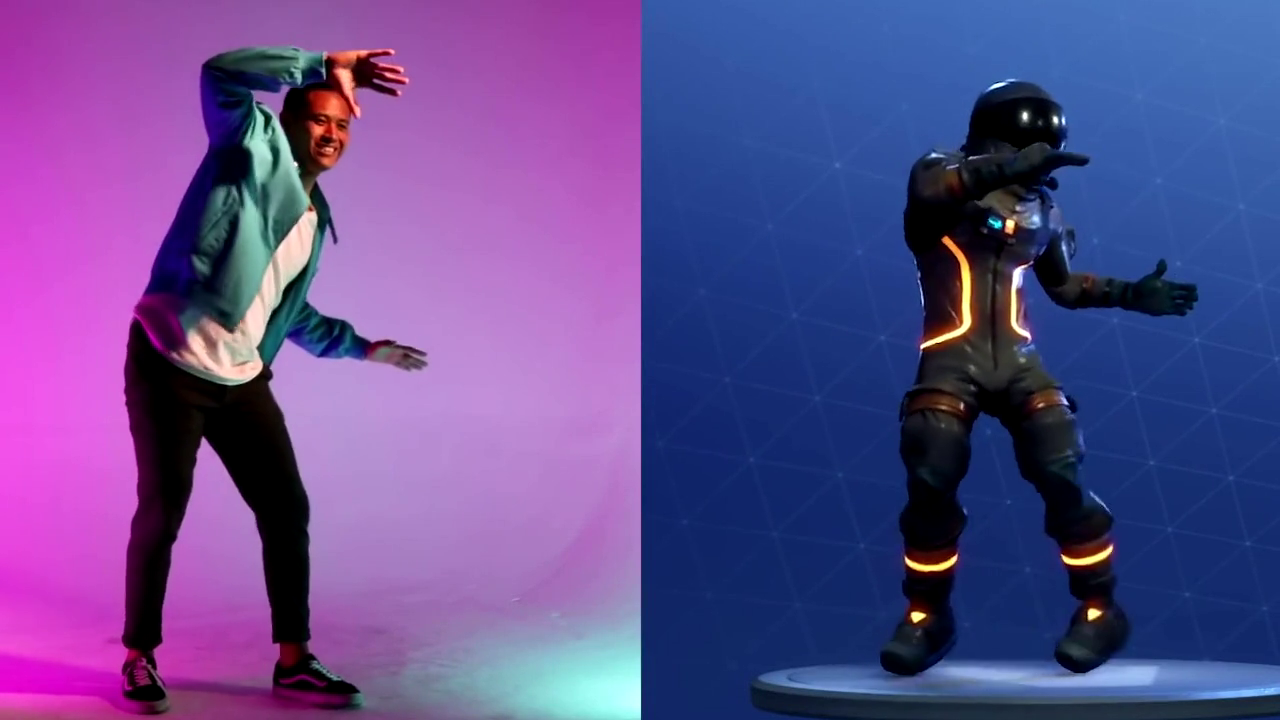Head: (282, 87, 373, 171)
Hip: (110, 318, 314, 459)
LeftAnkle: (258, 626, 384, 718)
LeftKnee: (239, 477, 339, 571)
LeftWrist: (356, 318, 445, 389)
RightAnkle: (62, 600, 189, 718)
RightElbow: (187, 45, 264, 113)
RightKnee: (131, 465, 215, 559)
RightWrist: (316, 32, 405, 116)
Torso: (227, 123, 336, 424)
